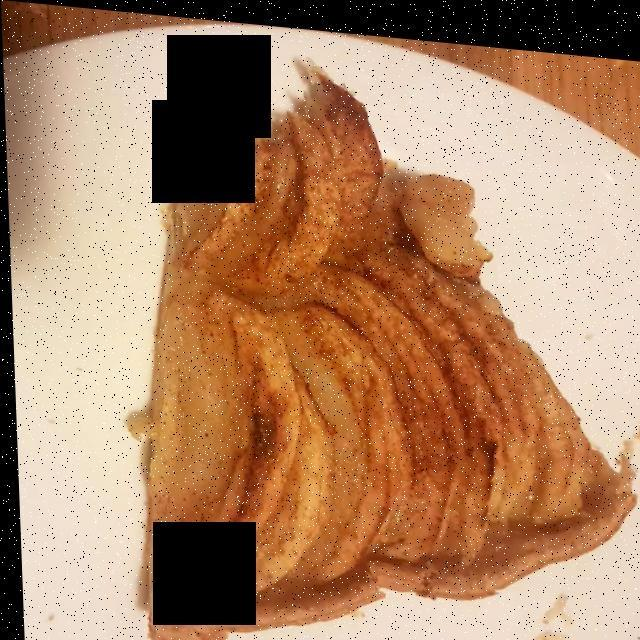apple-pie: (142, 64, 629, 640)
